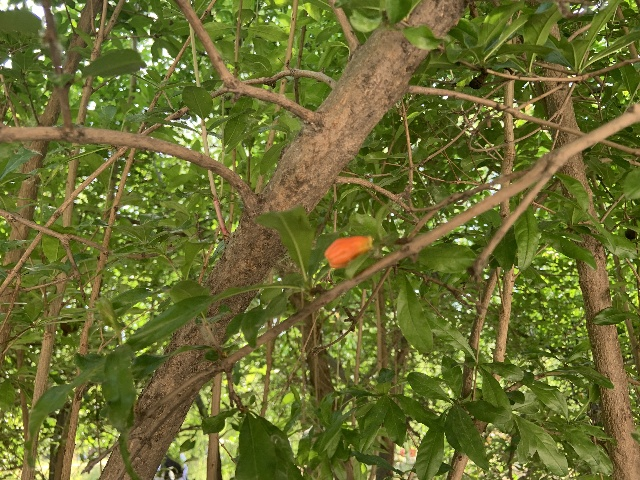bud: (325, 236, 373, 269)
